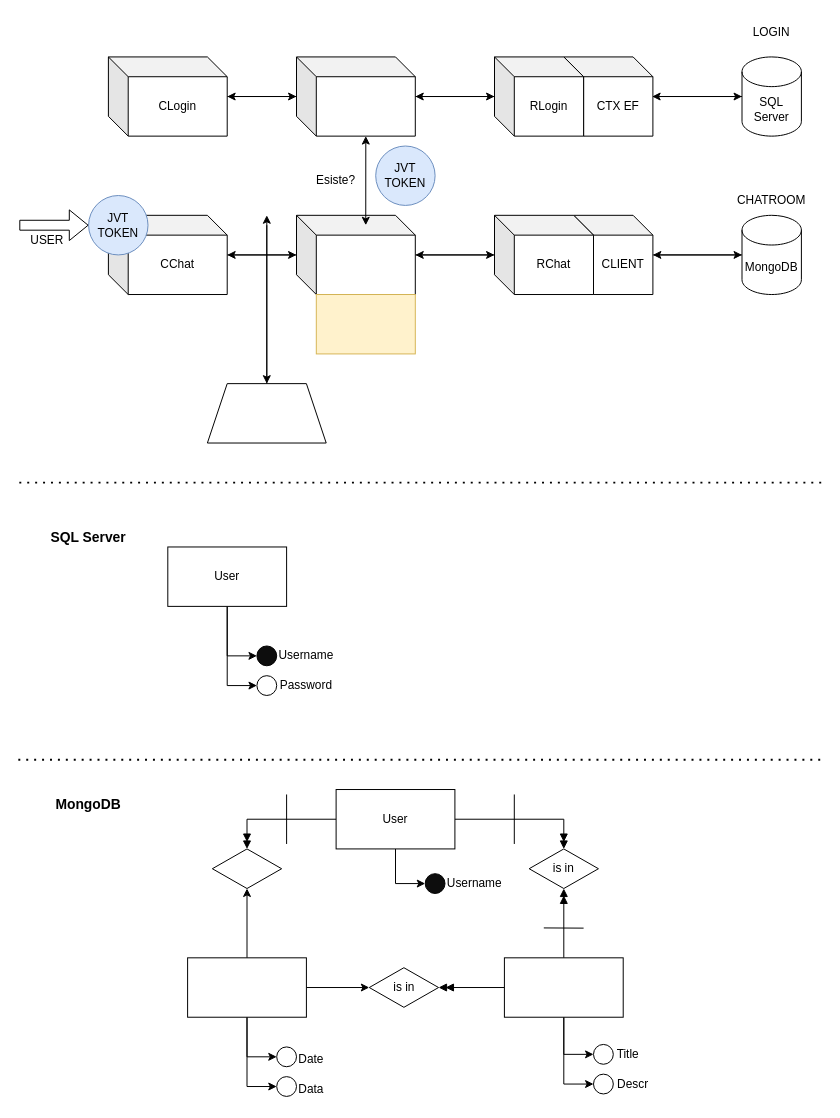
Image size: 840x1118. Some labels were removed from this diagram. The centre of each missing label's shape, as x and y in pixels:
DTO ModelState: (266,413)
Group: (563,987)
Message: (246,987)
Room in Mongo: (365,324)
SChat: (355,254)
SLogin: (355,96)
write: (246,868)
